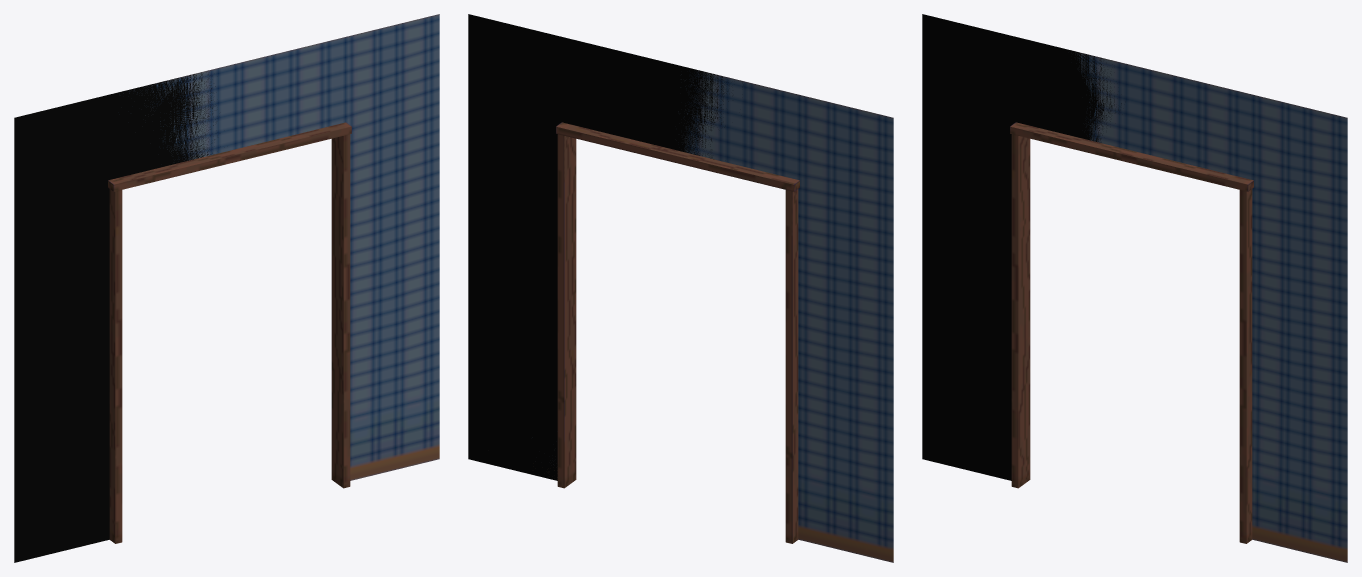
Rendered from 1x1door.fbx.
3 renders of one model, left to right at view 1: azimuth 30°, elevation 25°; view 2: azimuth 150°, elevation 25°; view 3: azimuth 330°, elevation 25°, orthographic.
Parts seen in each view (by area): view 1: Wall with Opening.006; view 2: Wall with Opening.006; view 3: Wall with Opening.006.
Boxes of the visible parts, <box> form: Wall with Opening.006: <box>14,14,439,562</box>; Wall with Opening.006: <box>468,14,893,562</box>; Wall with Opening.006: <box>922,14,1347,562</box>.
Bounding box in the file's own units: 3.13 × 0.15 × 3.13.
3 materials, 2 textured.
